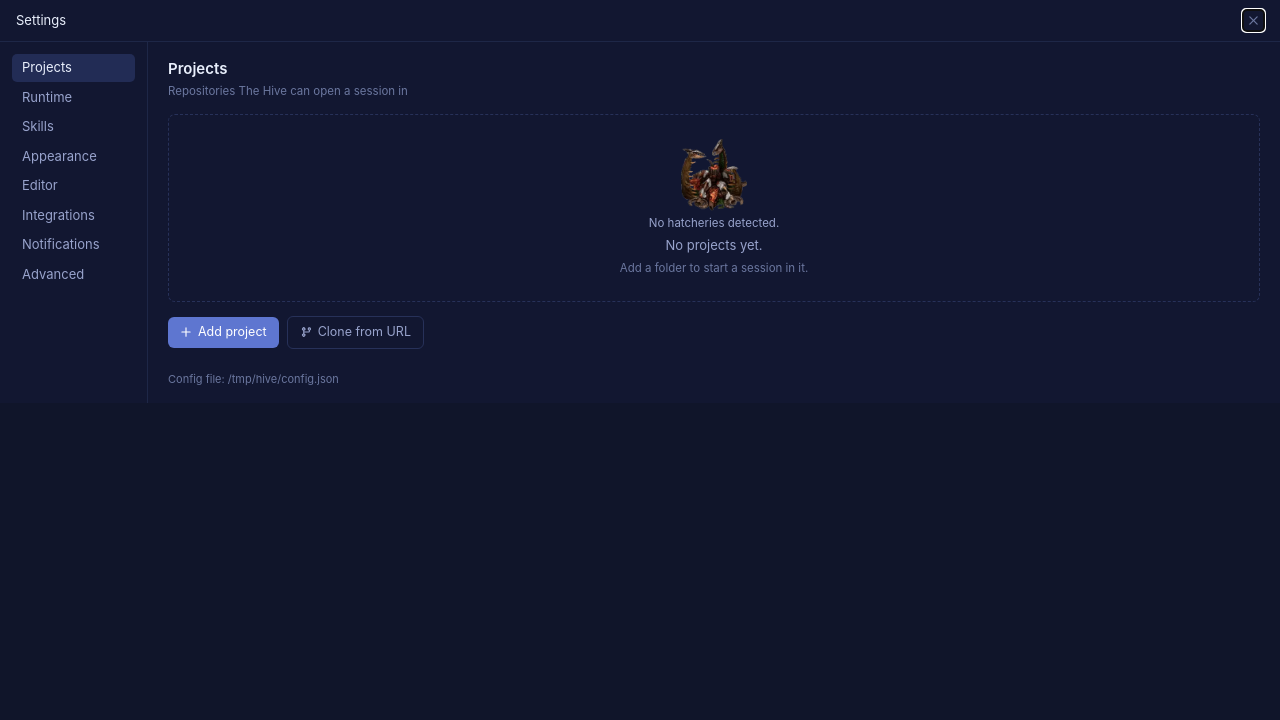
Test case: SettingsOverlay › switches to Advanced (story 107)
Click the button "Advanced": (74, 274) [12, 260, 135, 288]
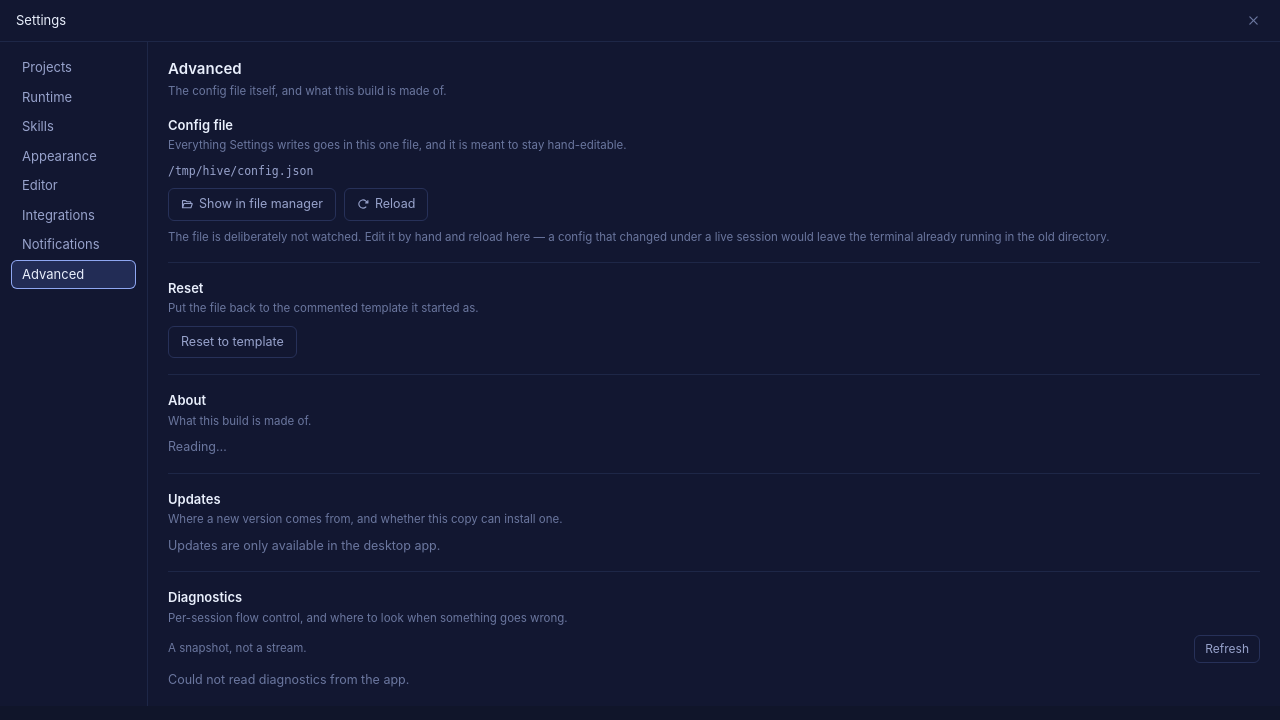
Check: the heading "Advanced" is shown, box [168, 59, 242, 78]
